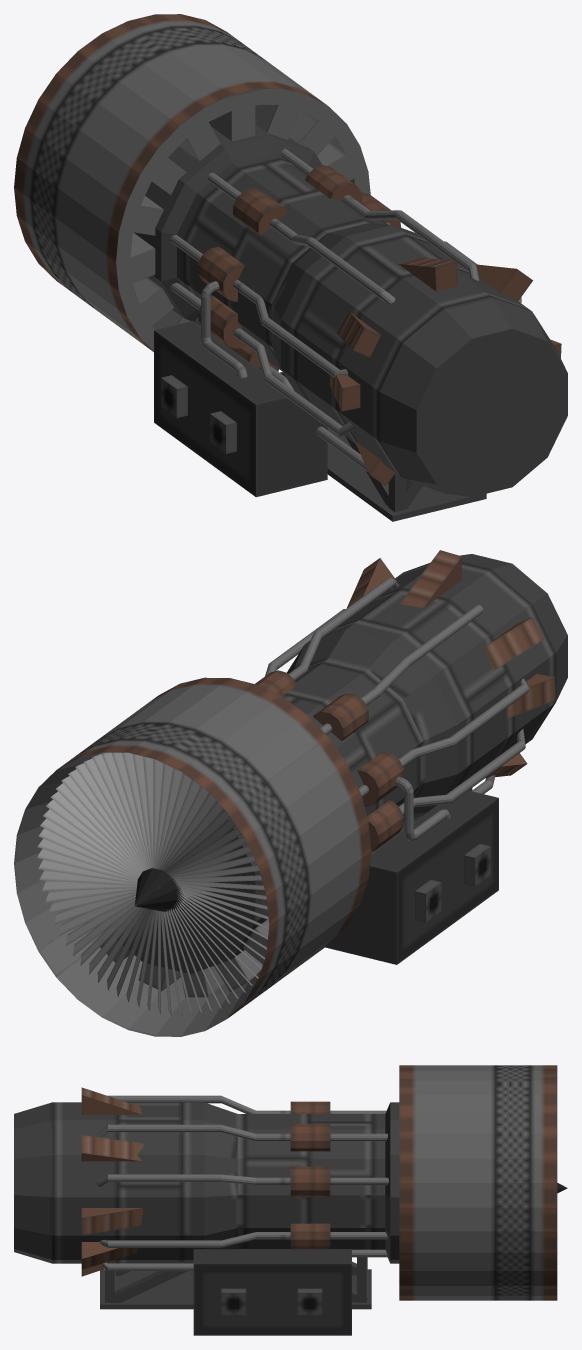
Rendered from turbofan.obj.
3 views of the same model, one above another, from view 1: azimuth 30°, elevation 25°; view 2: azimuth 150°, elevation 25°; view 3: azimuth 270°, elevation 25° (orthographic). The views are drawn at different scales.
Parts seen in each view (by area): view 1: cube; view 2: cube; view 3: cube.
Boxes of the visible parts, bbox=[...] form: cube: bbox=[14, 14, 567, 521]; cube: bbox=[14, 550, 567, 1036]; cube: bbox=[14, 1065, 567, 1335].
Bounding box in the file's own units: 2.98 × 3 × 7.01.
